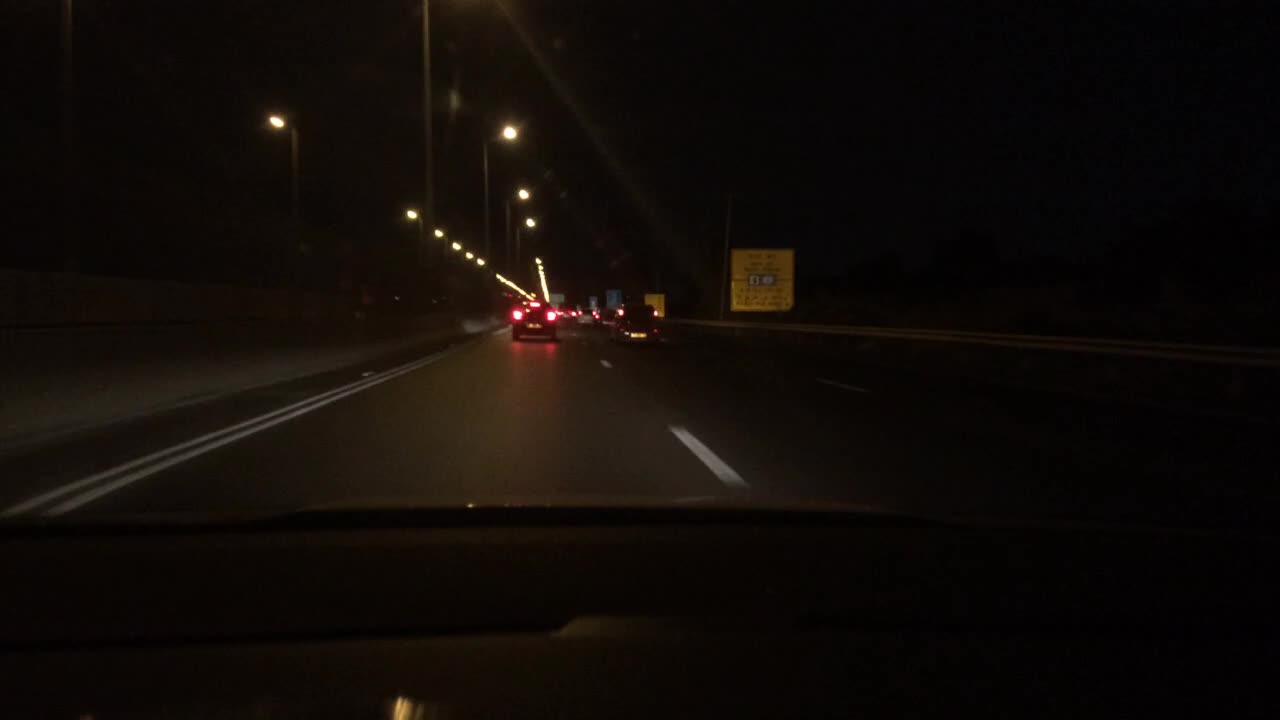car: (510, 299, 557, 341), (611, 310, 666, 343), (573, 305, 600, 326), (597, 306, 618, 326), (553, 306, 573, 319)
traffic sign: (729, 248, 794, 280), (729, 278, 794, 310), (642, 290, 665, 318), (606, 290, 620, 310), (547, 290, 566, 303)
